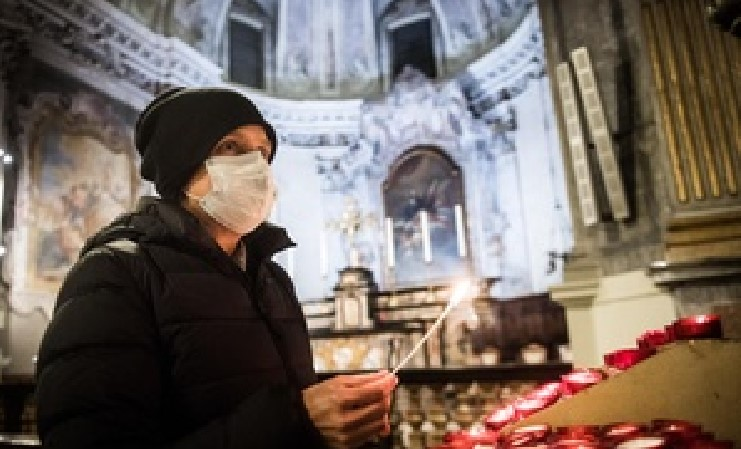face_with_mask: (136, 84, 281, 241)
